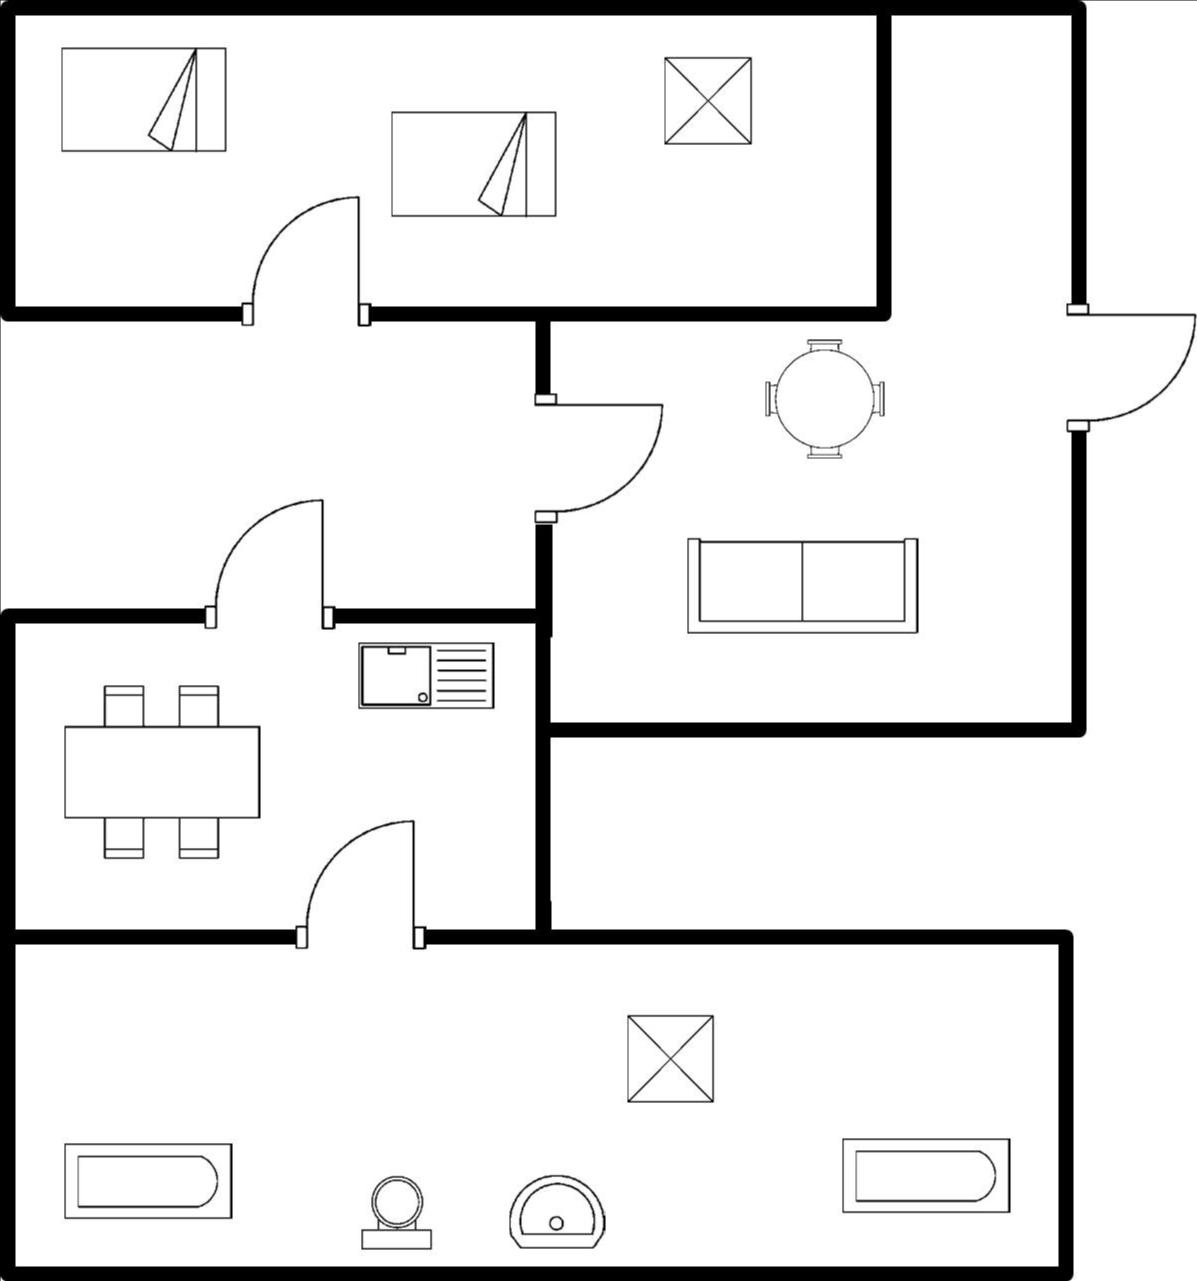bed: (54, 37, 238, 162), (379, 103, 564, 227)
dining_table: (55, 674, 273, 868)
round_table: (757, 330, 897, 468)
sink: (350, 632, 505, 719)
sofa: (678, 527, 930, 643)
toilet: (345, 1165, 447, 1257)
tub: (55, 1130, 245, 1228), (832, 1130, 1019, 1220)
